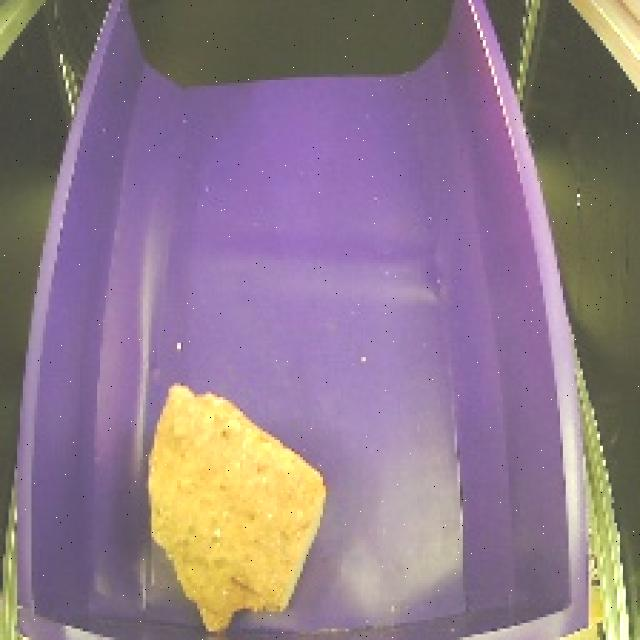brick: (137, 371, 332, 640)
